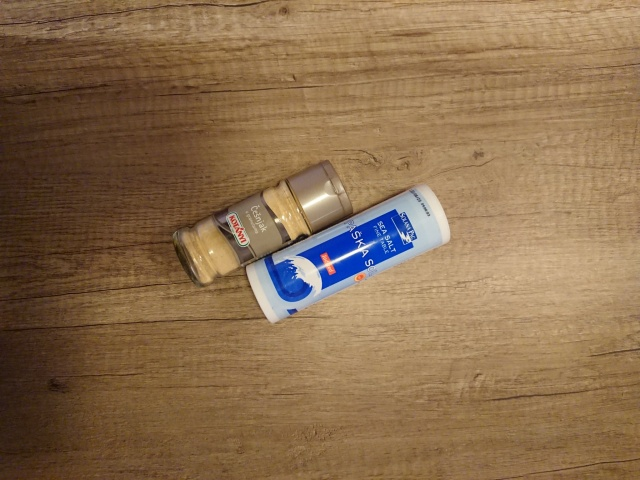Kotanyi Garlic Granules 70g: (169, 157, 356, 288)
Solana Pag Fine Sea Salt 250g: (243, 181, 453, 327)
